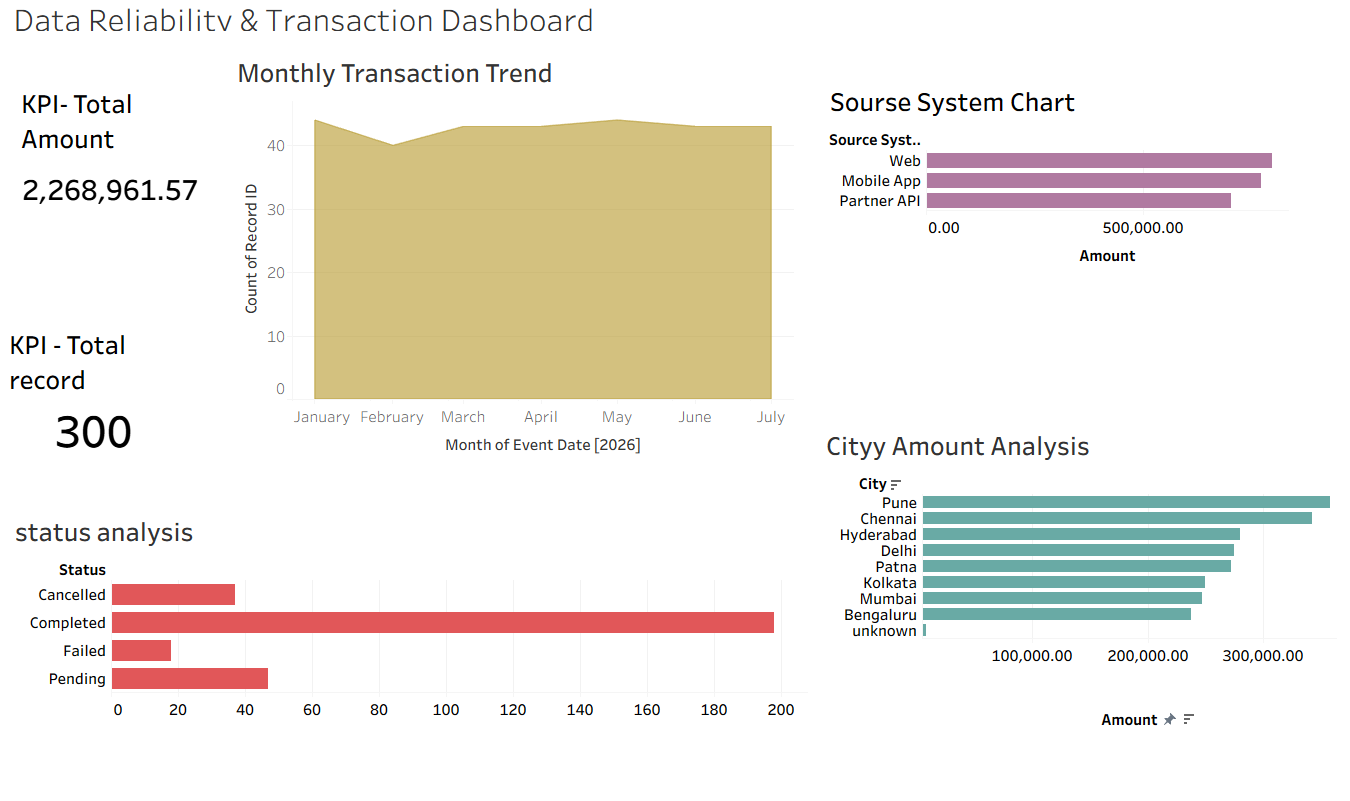

The page's visual inventory and layout, read from the dashboard file:
{"tool":"tableau","page":{"name":"Dashboard 1","canvas":[1357,851],"ordinal":0},"visuals":[{"type":"title","box":[8,8,1341,32]},{"type":"worksheet","title":"Sheet 6","mark":"Area","rows":["Record_ID"],"cols":["Event_Date"],"box":[235,56,561,411]},{"type":"worksheet","title":"Sheet 5","mark":"Automatic","rows":["Source_System"],"cols":["Amount"],"box":[828,85,463,381]},{"type":"worksheet","title":"Sheet 2","mark":"Automatic","box":[19,87,267,199]},{"type":"worksheet","title":"Sheet 1","mark":"Text","box":[7,328,308,194]},{"type":"worksheet","title":"Sheet 4","mark":"Automatic","rows":["city"],"cols":["Amount"],"box":[824,429,515,366]},{"type":"worksheet","title":"Sheet 3","mark":"Bar","rows":["status"],"cols":["Record_ID"],"box":[13,515,797,276]}]}

Visuals, with their boxes on the page's 1357x851 design canvas (x1, y1, x2, y2). These are canvas units, not pixel positions in the 1350x801 screenshot, which may show the page scaled, cropped or inside an application window:
title: crop(8, 8, 1349, 40)
"Sheet 6" worksheet (Area marks): crop(235, 56, 796, 467)
"Sheet 5" worksheet: crop(828, 85, 1291, 466)
"Sheet 2" worksheet: crop(19, 87, 286, 286)
"Sheet 1" worksheet (Text marks): crop(7, 328, 315, 522)
"Sheet 4" worksheet: crop(824, 429, 1339, 795)
"Sheet 3" worksheet (Bar marks): crop(13, 515, 810, 791)
